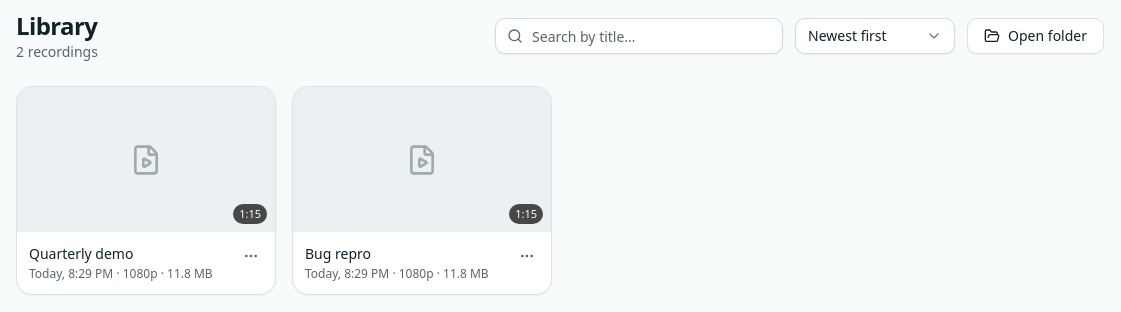
Test: LibraryPage › lists, searches and shows an empty search state
The width and height of the screenshot is (1121, 312).
expect the number of buttons with test id "recording-card" is 2: met, box [16,86,276,295]; [292,86,552,295]
In the field named "Search recordings": (639, 36) [495,18,783,54], type "bug"
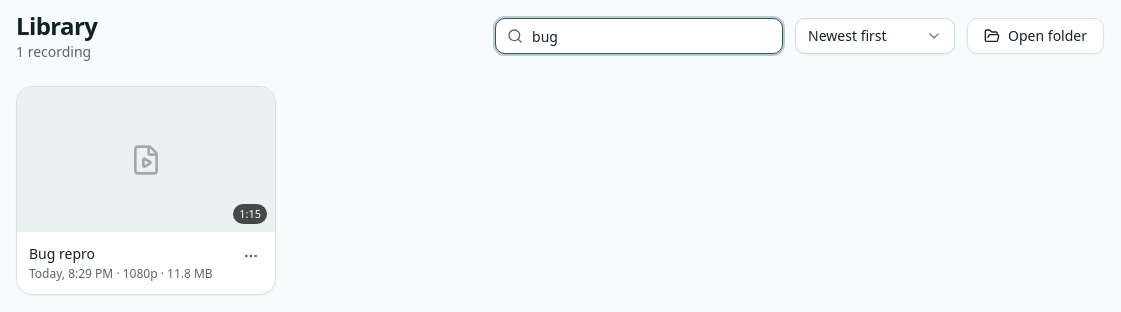
expect the number of buttons with test id "recording-card" is 1: met, box [16,86,276,295]
In the field named "Search recordings": (639, 36) [495,18,783,54], type "zzz"
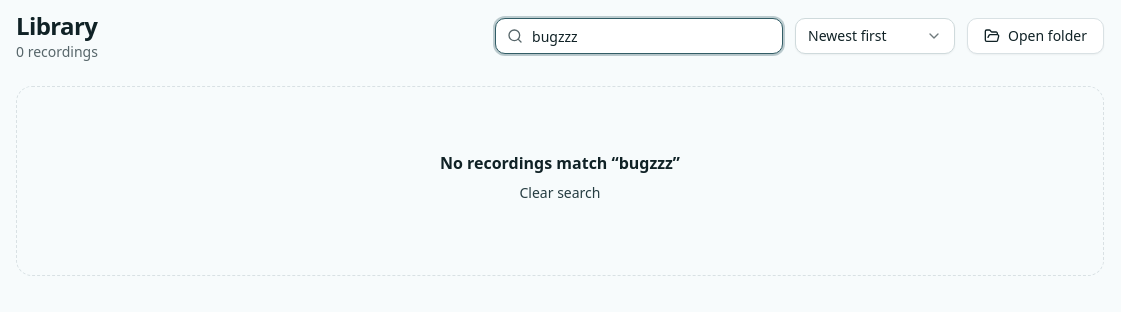
expect the heading "No recordings match" is shown: met, box [440,152,619,174]
Click the button "Clear search": (560, 193) [504,175,616,211]
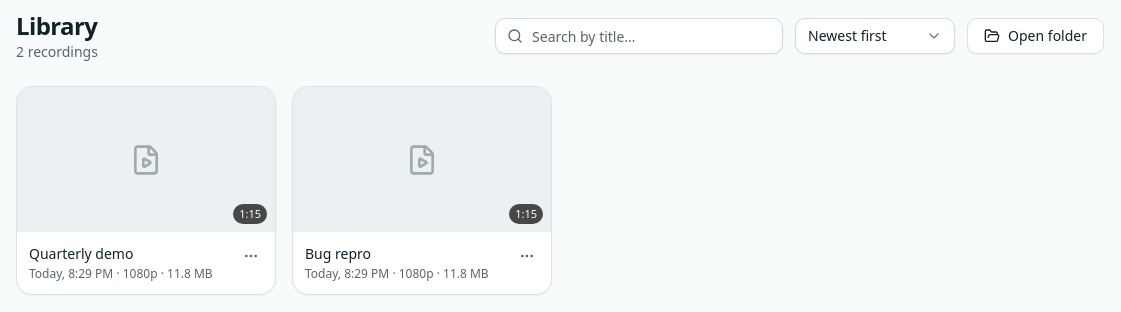
expect the number of buttons with test id "recording-card" is 2: met, box [16,86,276,295]; [292,86,552,295]
